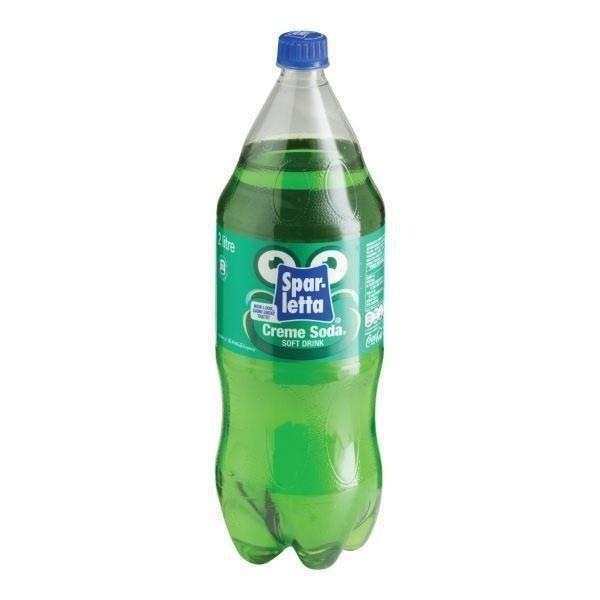bottle-plastic: (208, 25, 391, 572)
